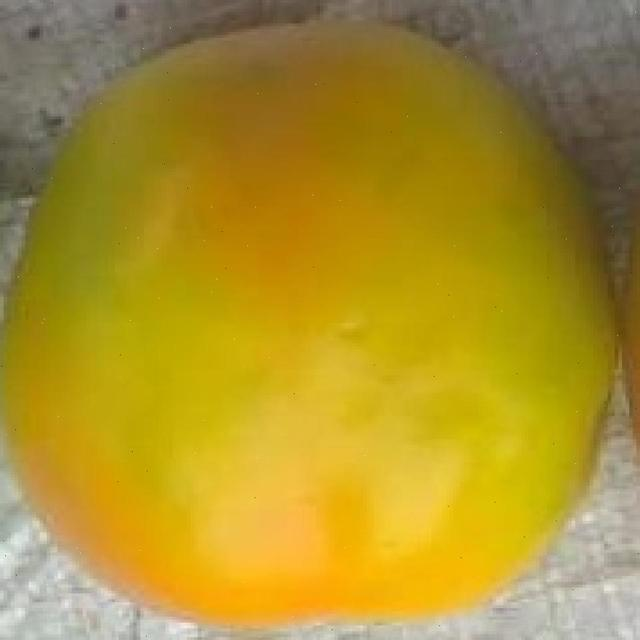Spotted wilt Virus Fruit: (0, 16, 415, 423)
